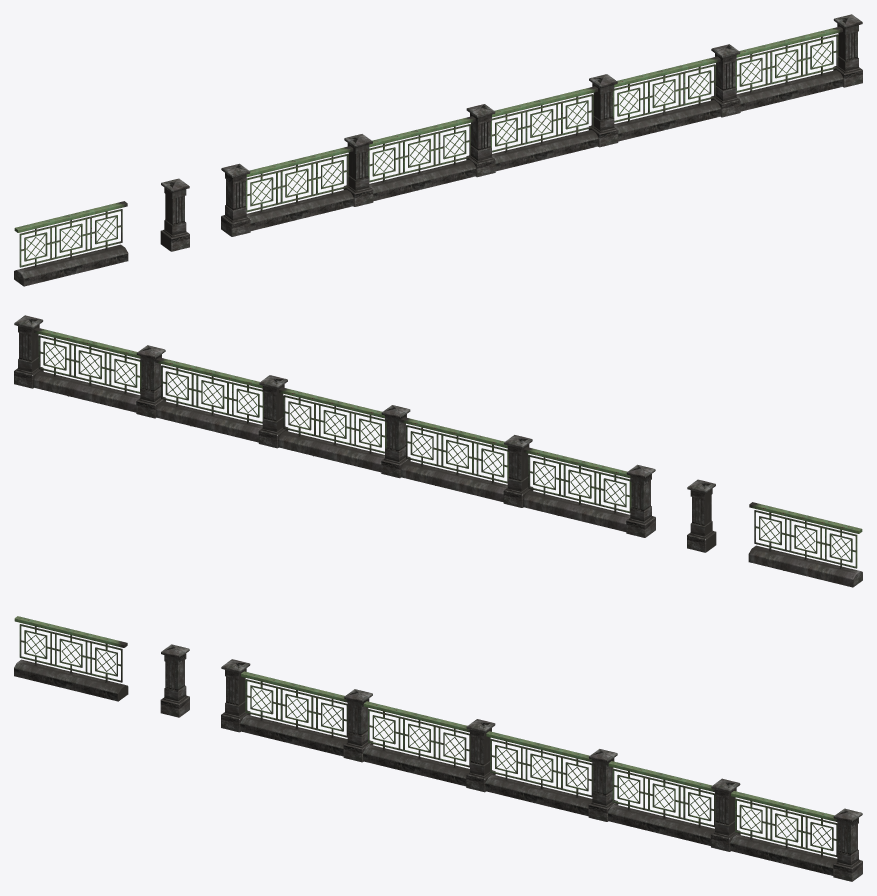
Rendered from metal_and_concrete_guardrail_8_mb.glb.
The picture shows the model from 3 angles, top to bottom: view 1: azimuth 30°, elevation 25°; view 2: azimuth 150°, elevation 25°; view 3: azimuth 330°, elevation 25°; orthographic projection.
Parts seen in each view (by area): view 1: Cloner, 01_all_0, 02_all_0, 02_1_all_0; view 2: Cloner, 01_all_0, 02_all_0, 02_1_all_0; view 3: Cloner, 01_all_0, 02_all_0, 02_1_all_0.
Part boxes in pixels (box(x1,y1,x2,y2)): Cloner: box(245, 14, 862, 230); 01_all_0: box(14, 201, 128, 286); 02_all_0: box(160, 178, 189, 251); 02_1_all_0: box(221, 163, 250, 236); Cloner: box(14, 315, 631, 531); 01_all_0: box(748, 502, 862, 587); 02_all_0: box(687, 479, 716, 552); 02_1_all_0: box(626, 464, 655, 537); Cloner: box(240, 671, 862, 881); 01_all_0: box(14, 616, 128, 701); 02_all_0: box(160, 644, 189, 717); 02_1_all_0: box(221, 659, 250, 732).
Size of the model in its own units: 19.52 by 1.4 by 0.4432.
1 material, 1 textured.
